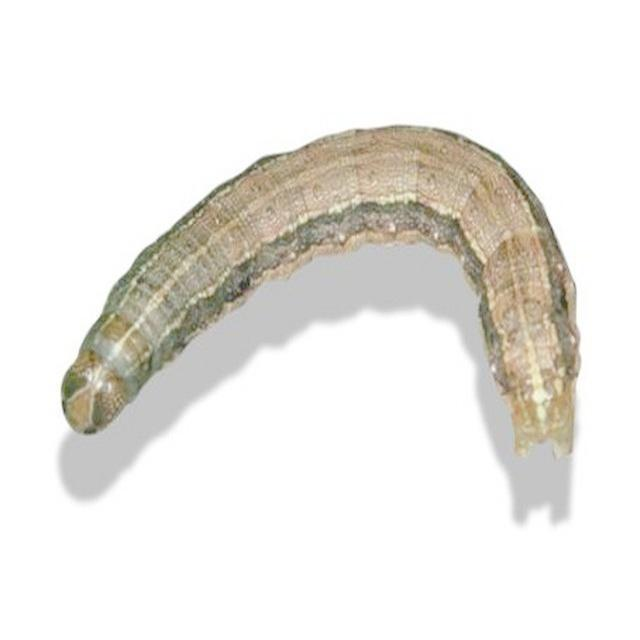gusano_cogollero: (56, 124, 584, 455)
